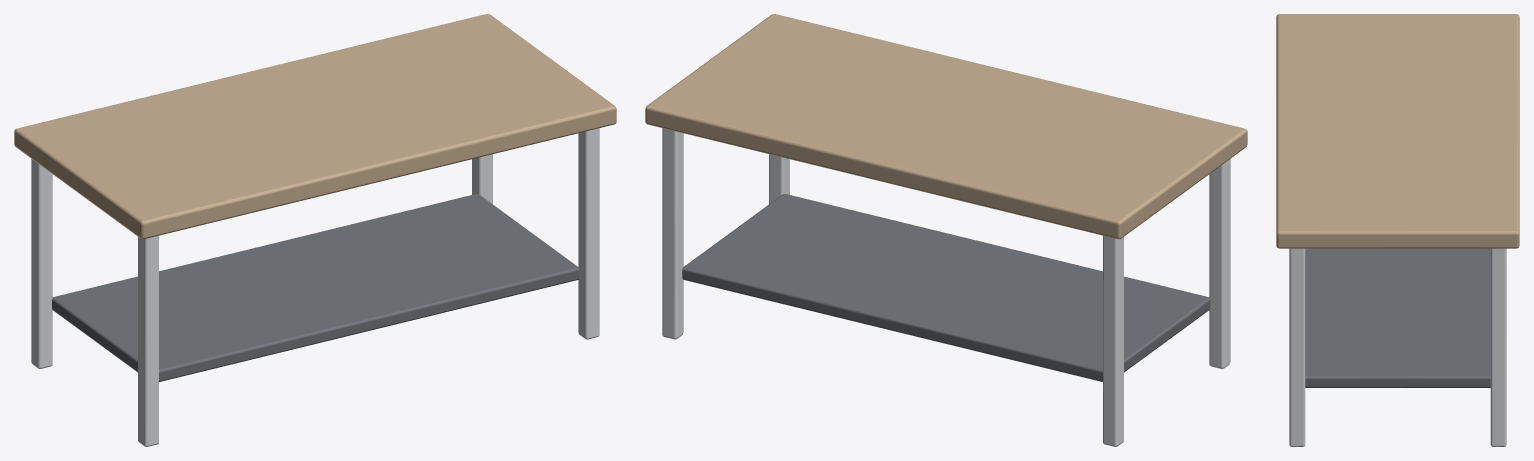
File: human-anatomy-and-education-kit-bench-table-775888b5.glb
The picture shows the model from 3 angles, left to right: view 1: azimuth 30°, elevation 25°; view 2: azimuth 150°, elevation 25°; view 3: azimuth 270°, elevation 25°; orthographic projection. The views are drawn at different scales.
Visible parts, largest first — view 1: bench-table; view 2: bench-table; view 3: bench-table.
Part boxes in pixels (box(x1,y1,x2,y2)): bench-table: box(14, 14, 616, 446); bench-table: box(645, 14, 1247, 446); bench-table: box(1276, 14, 1519, 446).
Size of the model in its own units: 1.6 by 0.75 by 0.7501.
